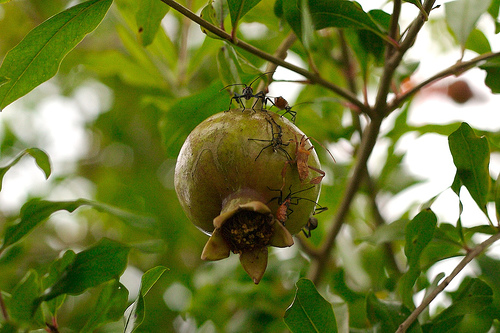pomogranate: (174, 103, 324, 286), (444, 79, 475, 106)
